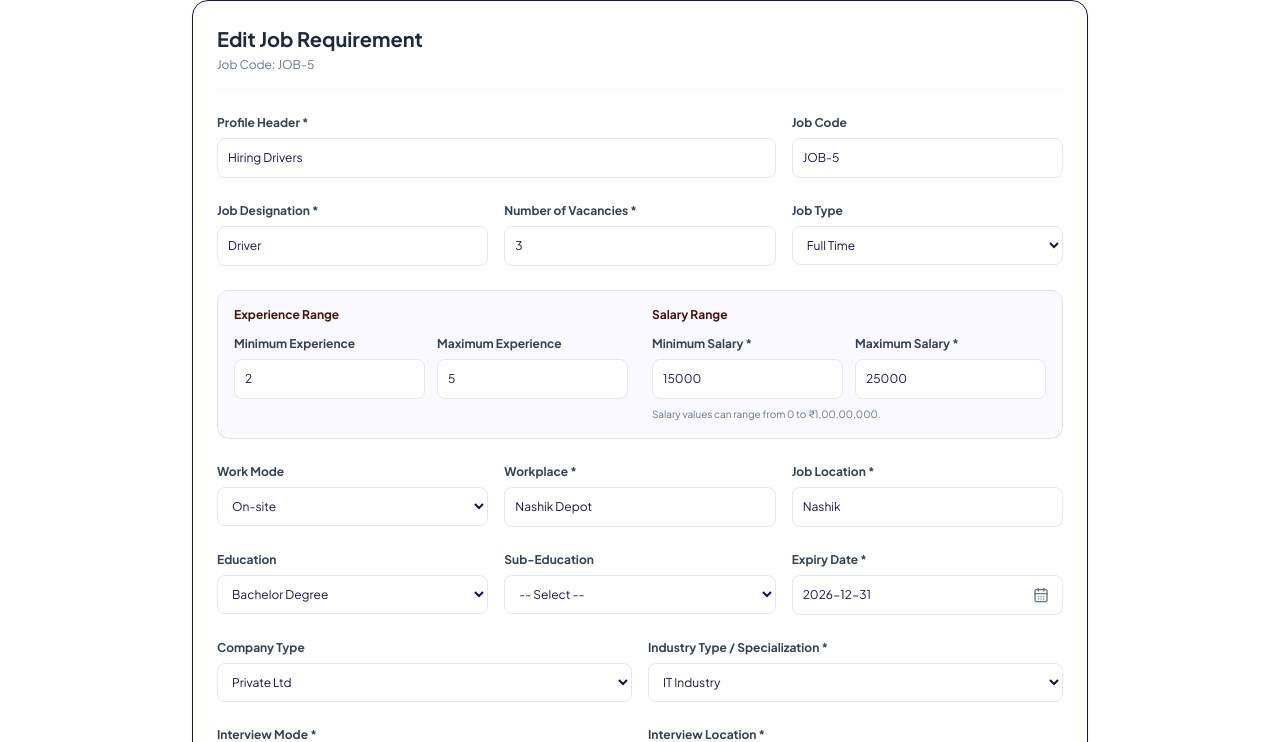
it: EditJobForm › keeps cleared or malformed numeric inputs editable and blocks invalid values
Replace the text in the field named "salary" below "Minimum Salary *" with "18x000" at (748, 379), box top-left (652, 359), bottom-right (843, 399)
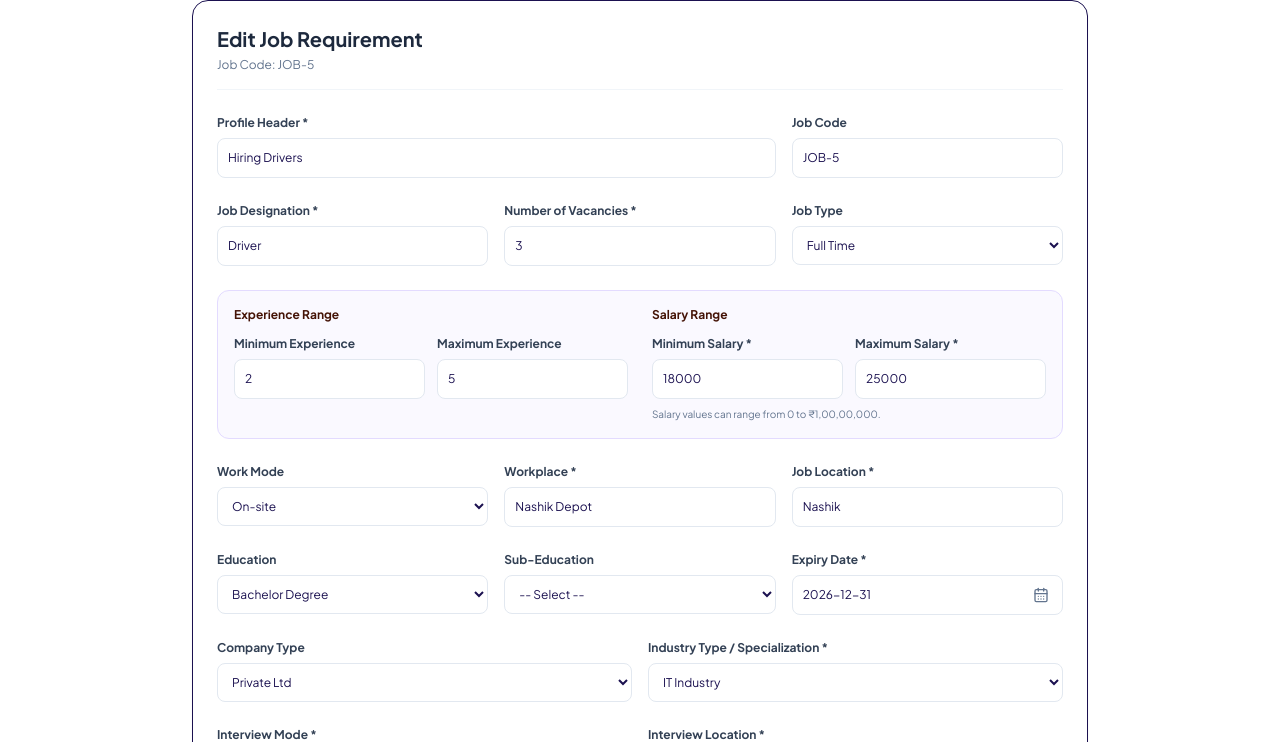
Clear the field named "experiance" below "Minimum Experience" at (330, 379), box top-left (234, 359), bottom-right (425, 399)
(page scrolled)
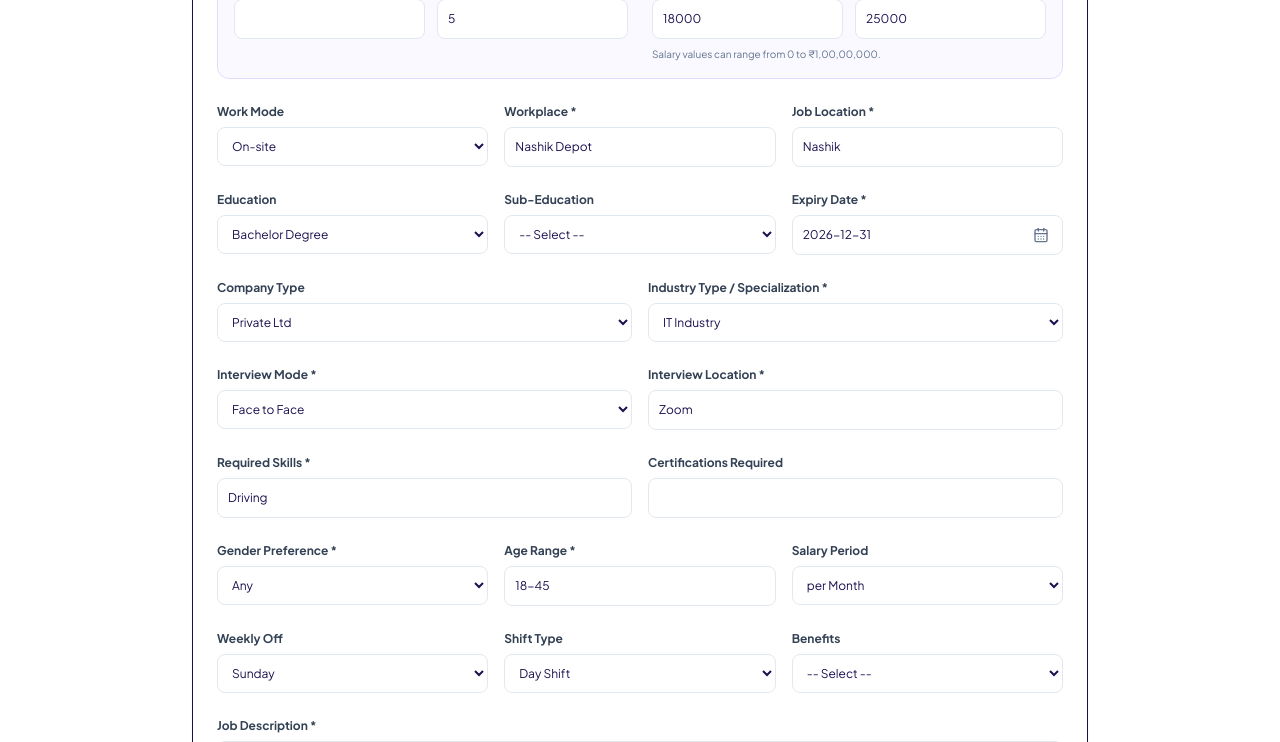
Submit the form
(page scrolled)
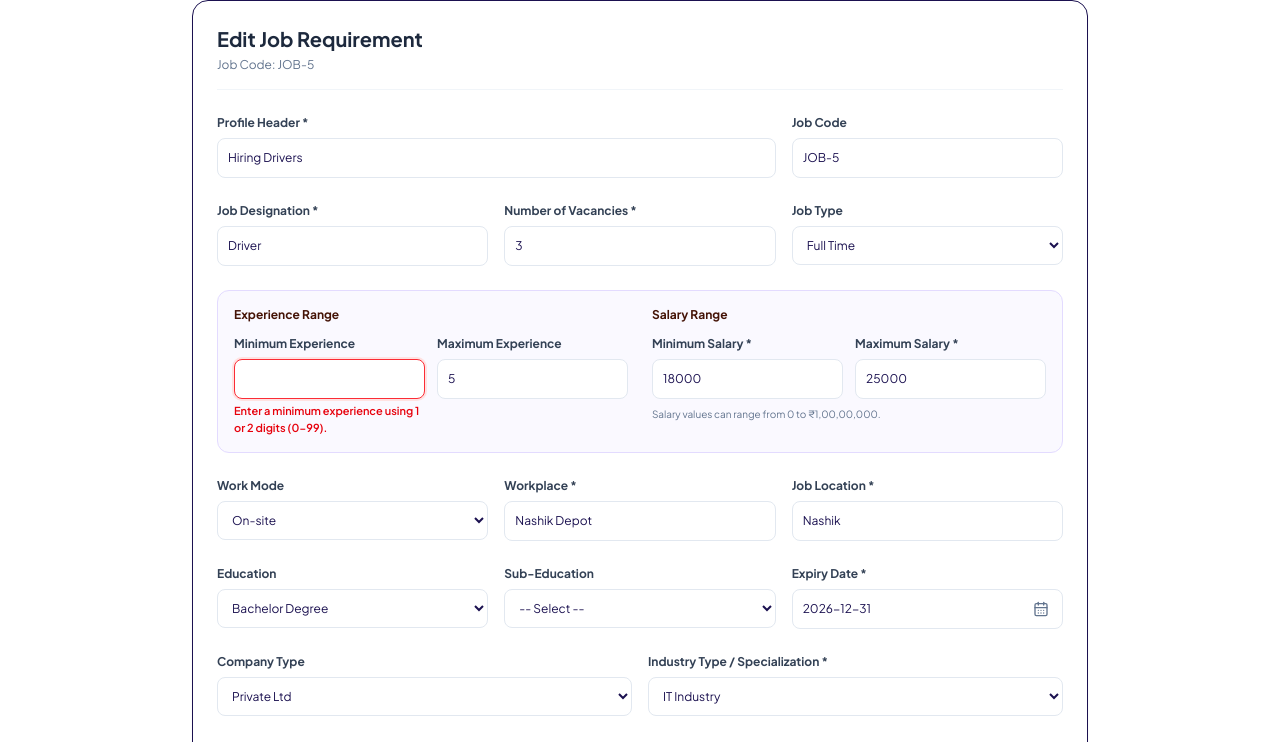
Now the field named "salary" below "Minimum Salary *" holds "18000", box top-left (652, 359), bottom-right (843, 399)
Now the text "Enter a minimum experience using 1 or 2 digits (0-99)." is shown, box top-left (234, 403), bottom-right (425, 436)
